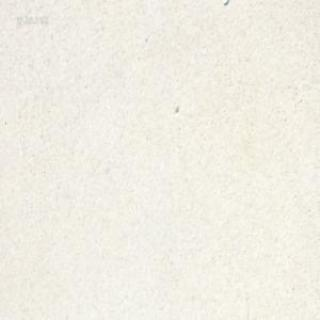Wrenchtrack_idkeyframe: (221, 0, 229, 4)
